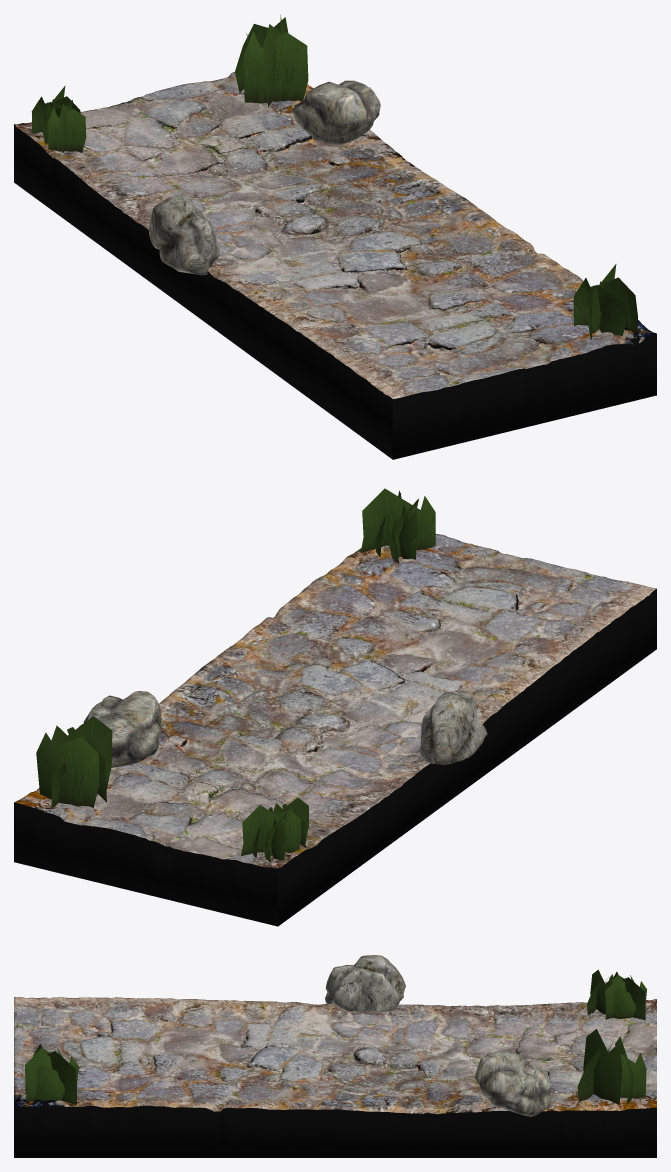
The model's file is via-romana.glb.
The picture shows the model from 3 angles, top to bottom: view 1: azimuth 30°, elevation 25°; view 2: azimuth 150°, elevation 25°; view 3: azimuth 270°, elevation 25°; orthographic projection. The views are drawn at different scales.
Visible parts, largest first — view 1: via, GrassPatch02, Rock2, Rock1, GrassPatch01, GrassPatch02.001, GrassPatch01.001; view 2: via, GrassPatch02, GrassPatch01, Rock1, Rock2, GrassPatch01.001, GrassPatch02.001; view 3: via, Rock2, Rock1, GrassPatch02, GrassPatch01, GrassPatch01.001, GrassPatch02.001.
Part boxes in pixels (x1=…): via: x1=14, y1=72, x2=656, y2=459; GrassPatch02: x1=235, y1=15, x2=308, y2=106; Rock2: x1=292, y1=80, x2=380, y2=144; Rock1: x1=149, y1=194, x2=219, y2=275; GrassPatch01: x1=573, y1=264, x2=637, y2=339; GrassPatch02.001: x1=42, y1=99, x2=86, y2=152; GrassPatch01.001: x1=31, y1=86, x2=80, y2=144; via: x1=14, y1=534, x2=656, y2=926; GrassPatch02: x1=36, y1=716, x2=112, y2=807; GrassPatch01: x1=360, y1=488, x2=435, y2=563; Rock1: x1=420, y1=690, x2=487, y2=764; Rock2: x1=79, y1=691, x2=161, y2=767; GrassPatch01.001: x1=241, y1=805, x2=299, y2=862; GrassPatch02.001: x1=268, y1=797, x2=308, y2=849; via: x1=14, y1=997, x2=656, y2=1157; Rock2: x1=475, y1=1050, x2=552, y2=1116; Rock1: x1=325, y1=955, x2=405, y2=1012; GrassPatch02: x1=577, y1=1029, x2=646, y2=1105; GrassPatch01: x1=25, y1=1043, x2=78, y2=1104; GrassPatch01.001: x1=605, y1=971, x2=646, y2=1020; GrassPatch02.001: x1=587, y1=969, x2=618, y2=1014.
Size of the model in its own units: 4.24 by 1.75 by 9.2.
3 materials, 3 textured.
